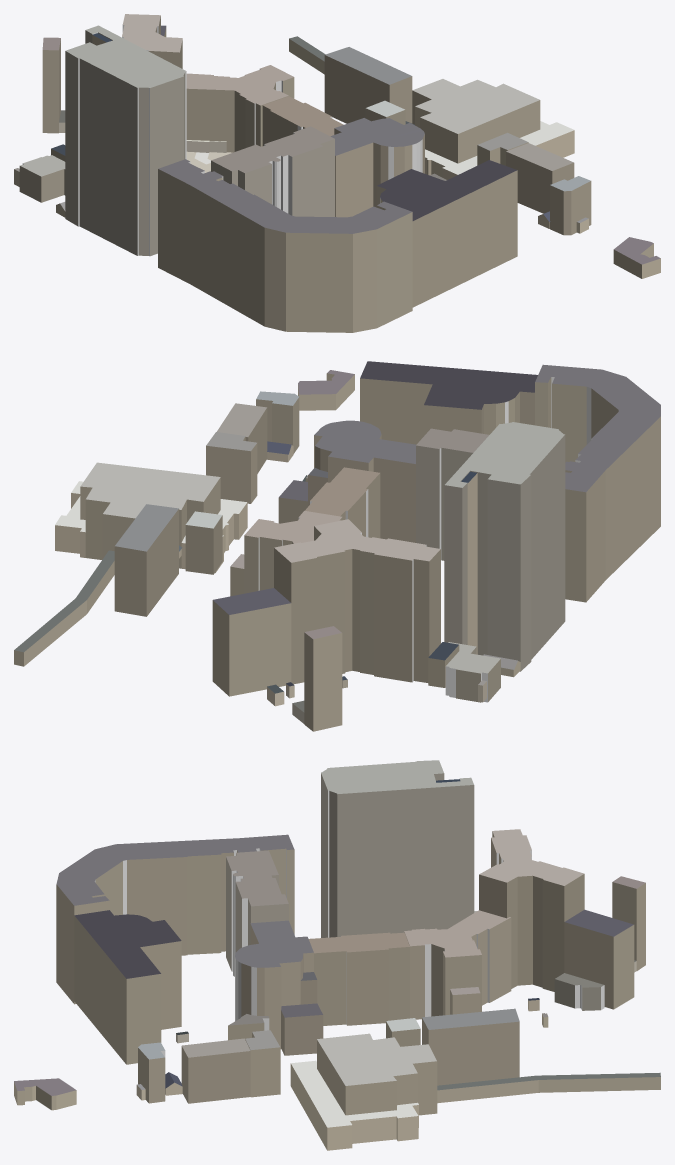
3 views of the same model, one above another, from view 1: azimuth 30°, elevation 25°; view 2: azimuth 150°, elevation 25°; view 3: azimuth 270°, elevation 25° (orthographic). The views are drawn at different scales.
Parts seen in each view (by area): view 1: tuile; view 2: tuile; view 3: tuile.
Boxes of the visible parts, x1,y1,x2,y2 form: tuile: (14,14,660,332); tuile: (14,361,660,731); tuile: (14,760,660,1150).
Size of the model in its own units: 223 by 79.41 by 273.
